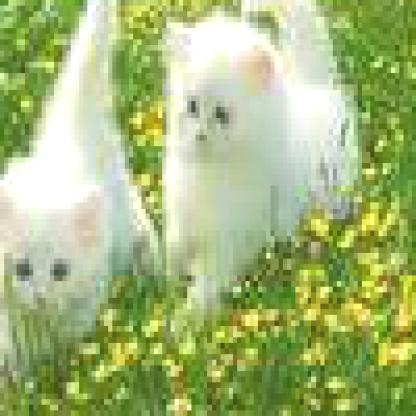cat: (162, 0, 358, 326), (4, 0, 158, 371)
